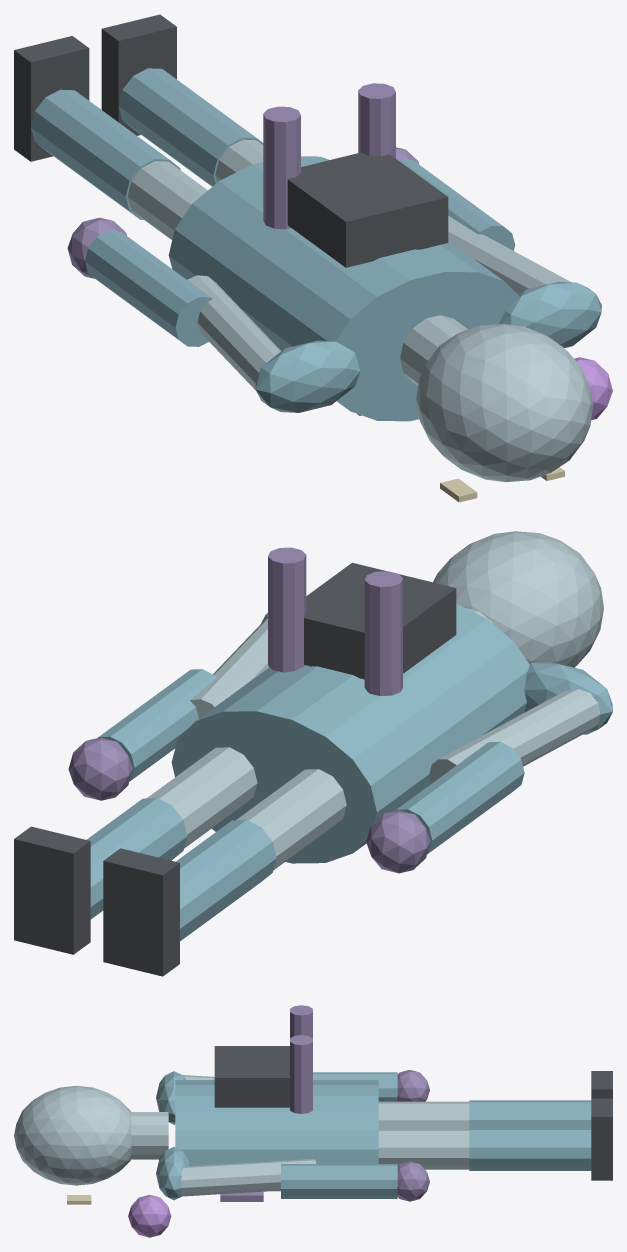
File: SWN-009_juno_marrow.glb
3 views of the same model, one above another, from view 1: azimuth 30°, elevation 25°; view 2: azimuth 150°, elevation 25°; view 3: azimuth 270°, elevation 25° (orthographic). The views are drawn at different scales.
Visible parts, largest first — view 1: body_spine, head, back_thruster_pack, greave_-1, greave_1, forearm_gauntlet_-1, shoulder_plate_-1, boot_-1, boot_1, shoulder_plate_1, upper_arm_-1, aether_thruster_-1 (+8 smaller); view 2: body_spine, head, back_thruster_pack, boot_1, boot_-1, greave_-1, forearm_gauntlet_-1, thigh_1, thigh_-1, upper_arm_-1, forearm_gauntlet_1, greave_1 (+6 smaller); view 3: body_spine, head, greave_1, back_thruster_pack, forearm_gauntlet_1, thigh_1, greave_-1, upper_arm_1, thigh_-1, boot_1, aether_thruster_1, neck (+9 smaller).
Part boxes in pixels (bbox=[...]): body_spine: bbox=[168, 156, 519, 421]; head: bbox=[416, 323, 593, 481]; back_thruster_pack: bbox=[287, 152, 448, 267]; greave_-1: bbox=[31, 89, 180, 219]; greave_1: bbox=[118, 68, 263, 186]; forearm_gauntlet_-1: bbox=[85, 231, 212, 346]; shoulder_plate_-1: bbox=[255, 340, 360, 412]; boot_-1: bbox=[14, 36, 89, 161]; boot_1: bbox=[101, 14, 176, 135]; shoulder_plate_1: bbox=[499, 281, 601, 347]; upper_arm_-1: bbox=[187, 275, 281, 390]; aether_thruster_-1: bbox=[263, 106, 300, 229]; body_spine: bbox=[171, 603, 529, 863]; head: bbox=[433, 531, 603, 667]; back_thruster_pack: bbox=[304, 562, 456, 679]; boot_1: bbox=[14, 826, 90, 954]; boot_-1: bbox=[103, 848, 179, 976]; greave_-1: bbox=[176, 820, 276, 940]; forearm_gauntlet_-1: bbox=[395, 741, 524, 854]; thigh_1: bbox=[147, 747, 257, 848]; thigh_-1: bbox=[236, 769, 346, 870]; upper_arm_-1: bbox=[429, 689, 600, 783]; forearm_gauntlet_1: bbox=[98, 669, 216, 781]; greave_1: bbox=[86, 798, 187, 919]; body_spine: bbox=[175, 1080, 378, 1191]; head: bbox=[14, 1086, 131, 1185]; greave_1: bbox=[469, 1128, 591, 1170]; back_thruster_pack: bbox=[214, 1046, 289, 1107]; forearm_gauntlet_1: bbox=[281, 1164, 397, 1198]; thigh_1: bbox=[378, 1129, 469, 1169]; greave_-1: bbox=[469, 1100, 591, 1127]; upper_arm_1: bbox=[181, 1159, 316, 1196]; thigh_-1: bbox=[378, 1101, 469, 1129]; boot_1: bbox=[591, 1098, 612, 1180]; aether_thruster_1: bbox=[290, 1035, 312, 1113]; neck: bbox=[130, 1112, 168, 1159].
Size of the model in its own units: 0.95 by 0.69 by 2.21.
